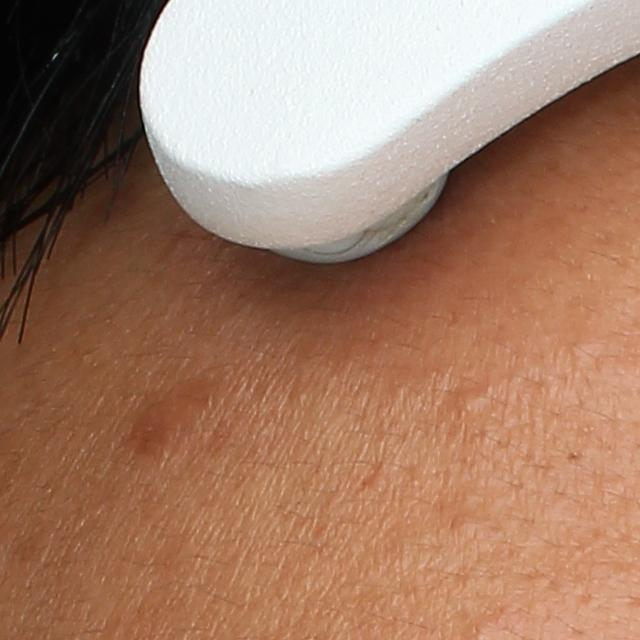comedo: (454, 386, 483, 415)
